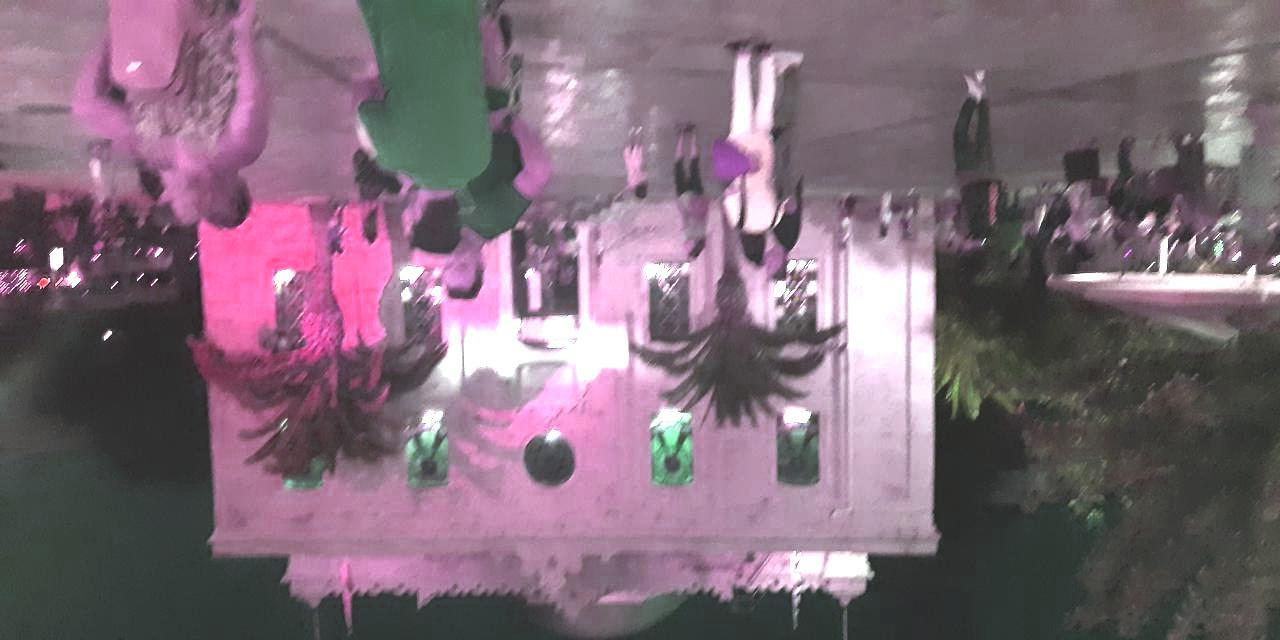Agios Titos: (339, 33, 1084, 452)
